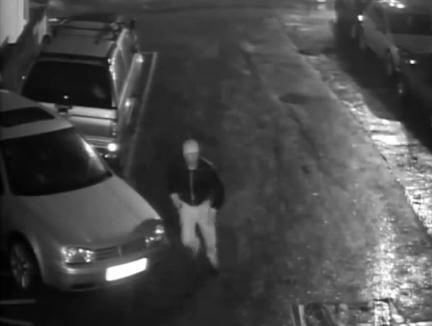person: (163, 126, 231, 277)
